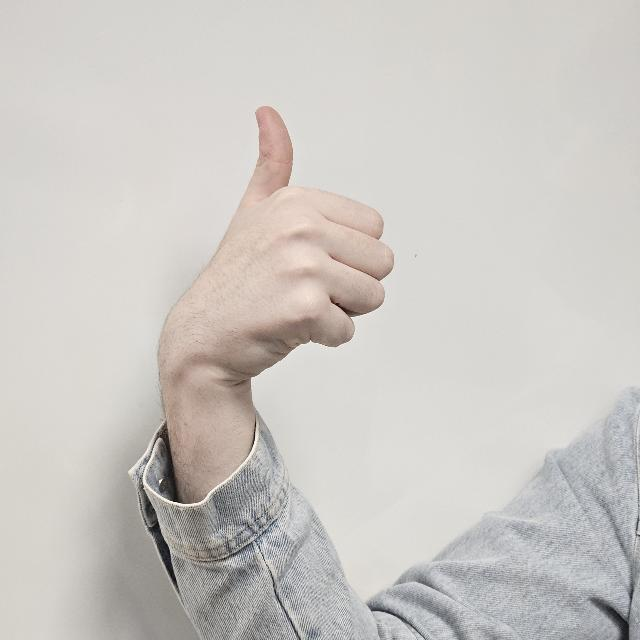Start: (152, 100, 404, 396)
